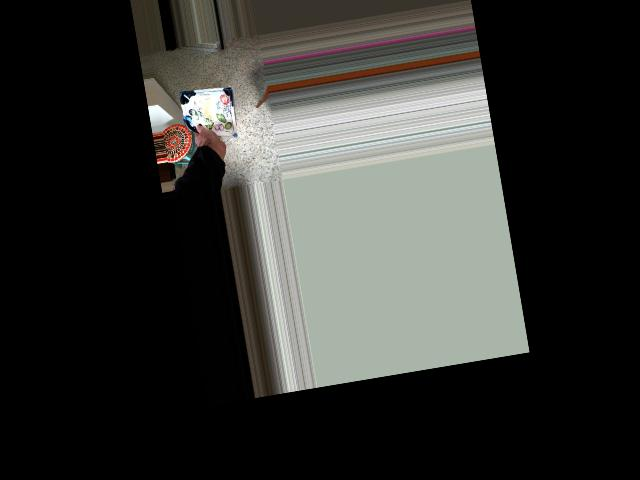cheese: (172, 84, 249, 161)
